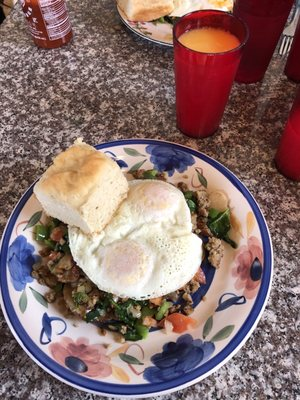pizza: (172, 10, 251, 139), (232, 0, 296, 84)
soup: (31, 140, 206, 339)
sushi: (1, 139, 274, 389)
